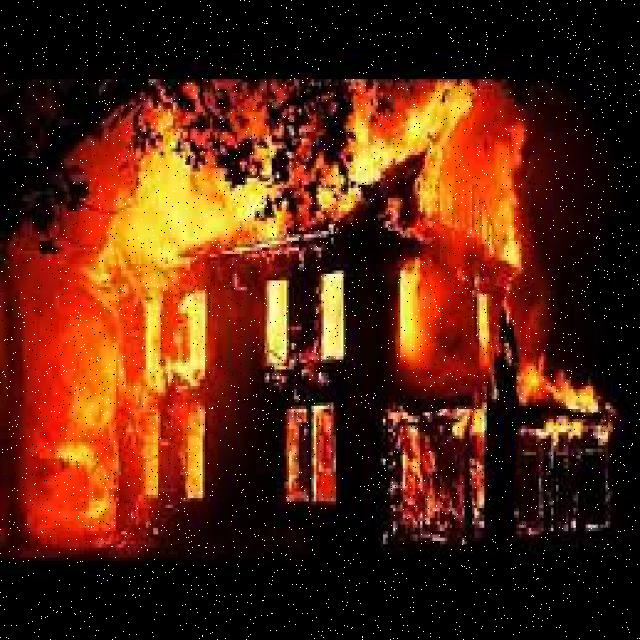fire: (122, 130, 270, 292), (358, 86, 452, 228), (75, 284, 204, 382), (408, 262, 494, 379), (520, 352, 617, 438), (320, 273, 354, 378), (264, 277, 291, 368)
